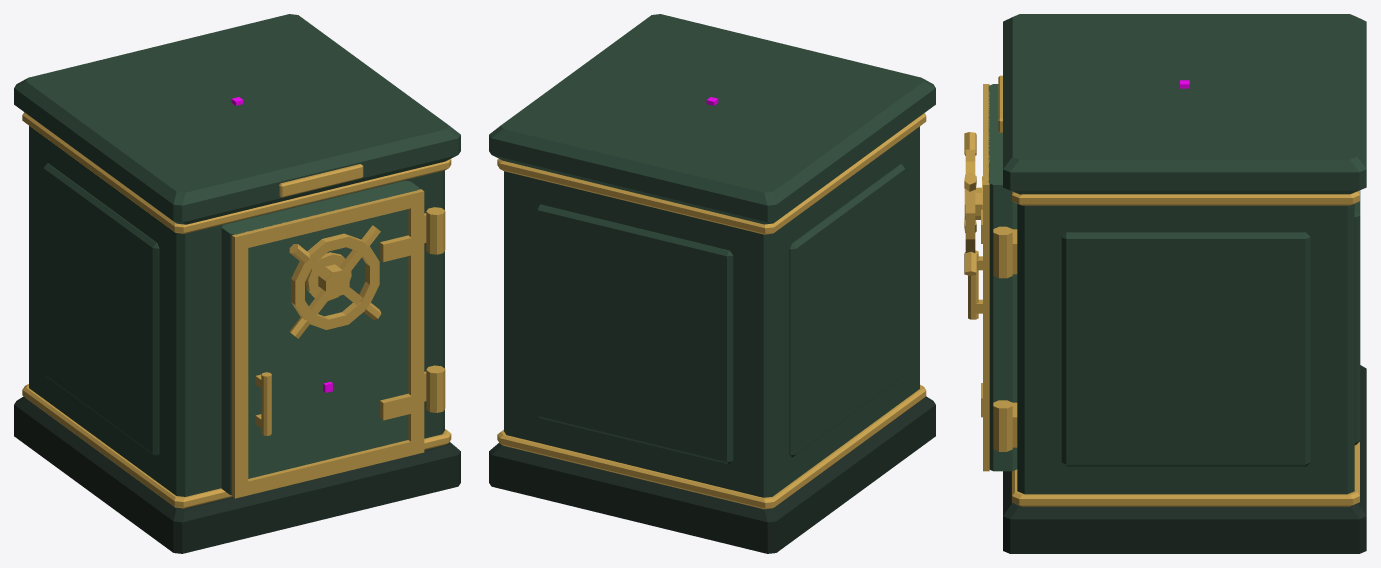
File: VLT_Lvl2.fbx
3 views of the same model, side by side, from view 1: azimuth 30°, elevation 25°; view 2: azimuth 150°, elevation 25°; view 3: azimuth 270°, elevation 25° (orthographic). The views are drawn at different scales.
Parts seen in each view (by area): view 1: Body, Door, Base, DoorFrame, Trim, Wheel, Handle; view 2: Body, Base, Trim; view 3: Body, Base, Trim, Door, DoorFrame, Wheel, Handle.
Boxes of the visible parts, x1,y1,x2,y2 form: Body: (14,14,460,496); Door: (221,180,419,495); Base: (14,396,460,553); DoorFrame: (232,189,424,498); Trim: (22,112,451,508); Wheel: (289,225,381,338); Handle: (255,372,271,435); Body: (489,14,935,497); Base: (489,396,935,553); Trim: (497,113,926,509); Body: (1003,14,1366,494); Base: (1003,365,1366,553); Trim: (993,75,1359,506); Door: (988,84,1017,471); DoorFrame: (981,84,989,471); Wheel: (964,132,982,275); Handle: (968,250,982,319).
Bounding box in the file's own units: 7.6 × 9.1 × 8.41.
